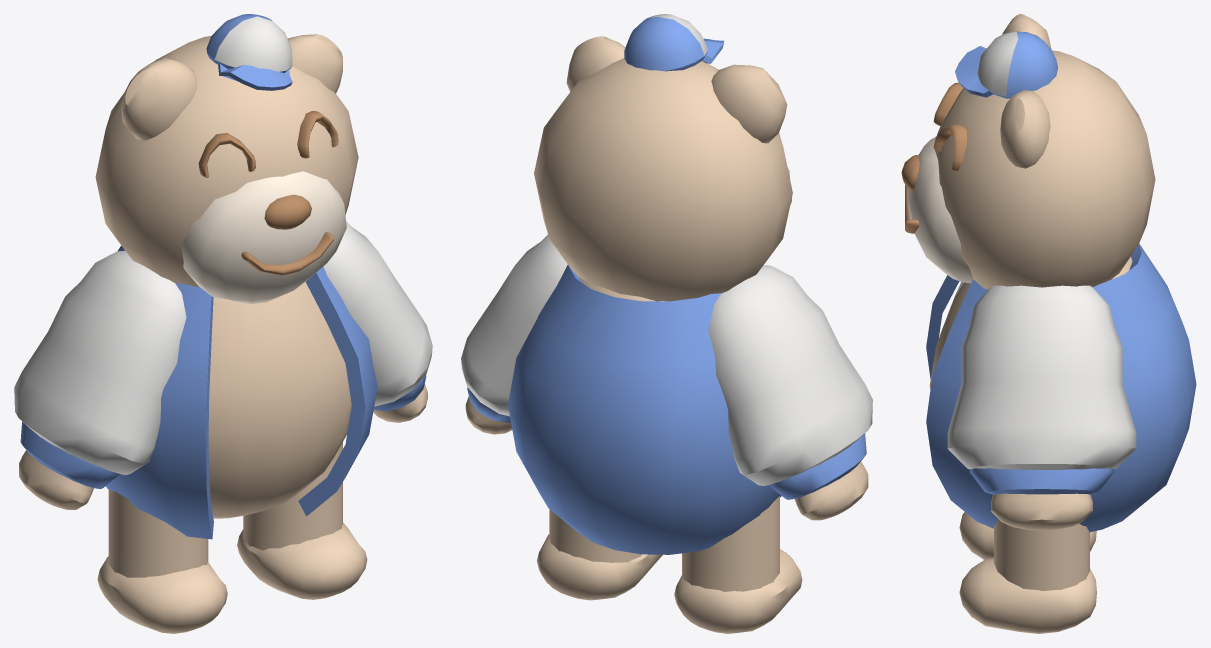
Rendered from Kunung.glb.
3 renders of one model, left to right at view 1: azimuth 30°, elevation 25°; view 2: azimuth 150°, elevation 25°; view 3: azimuth 270°, elevation 25°, orthographic. The views are drawn at different scales.
Visible parts, largest first — view 1: Head, Body, L.cloth1, cloth, mouth, R.cloth1, L.foot, R.foot, L.Leg, L.ear, R.Leg, hat.1 (+9 smaller); view 2: cloth, Head, L.cloth1, R.cloth1, L.Leg, L.foot, R.foot, L.ear, hat, L.hand, L.cloth2, R.Leg (+2 smaller); view 3: Head, R.cloth1, cloth, R.foot, R.Leg, mouth, hat (×2), R.cloth2, R.hand, R.ear, hat.1, L.foot (+5 smaller).
Boxes of the visible parts, x1=… form: Head: x1=95, y1=36, x2=358, y2=286; Body: x1=208, y1=282, x2=351, y2=518; L.cloth1: x1=14, y1=250, x2=186, y2=475; cloth: x1=105, y1=245, x2=377, y2=539; mouth: x1=181, y1=171, x2=346, y2=304; R.cloth1: x1=323, y1=222, x2=432, y2=406; L.foot: x1=97, y1=556, x2=227, y2=633; R.foot: x1=237, y1=523, x2=367, y2=599; L.Leg: x1=108, y1=489, x2=208, y2=577; L.ear: x1=121, y1=58, x2=197, y2=140; R.Leg: x1=243, y1=442, x2=342, y2=550; hat.1: x1=214, y1=16, x2=292, y2=71; cloth: x1=508, y1=265, x2=781, y2=554; Head: x1=534, y1=58, x2=792, y2=301; L.cloth1: x1=708, y1=265, x2=872, y2=485; R.cloth1: x1=461, y1=235, x2=567, y2=416; L.Leg: x1=682, y1=496, x2=779, y2=591; L.foot: x1=674, y1=549, x2=802, y2=633; R.foot: x1=537, y1=534, x2=662, y2=600; L.ear: x1=711, y1=64, x2=787, y2=143; hat: x1=624, y1=16, x2=707, y2=71; L.hand: x1=794, y1=461, x2=868, y2=520; L.cloth2: x1=769, y1=433, x2=866, y2=499; R.Leg: x1=549, y1=509, x2=641, y2=562; Head: x1=934, y1=50, x2=1155, y2=289; R.cloth1: x1=947, y1=285, x2=1136, y2=469; cloth: x1=926, y1=243, x2=1196, y2=531; R.foot: x1=959, y1=558, x2=1096, y2=633; R.Leg: x1=994, y1=520, x2=1089, y2=590; mouth: x1=907, y1=136, x2=973, y2=283; hat (×2): x1=955, y1=31, x2=1057, y2=98; R.cloth2: x1=970, y1=468, x2=1113, y2=494; R.hand: x1=991, y1=493, x2=1092, y2=530; R.ear: x1=1000, y1=90, x2=1050, y2=168; hat.1: x1=977, y1=31, x2=1018, y2=96; L.foot: x1=959, y1=512, x2=1096, y2=559.
Bounding box in the file's own units: 332 × 476 × 227.
